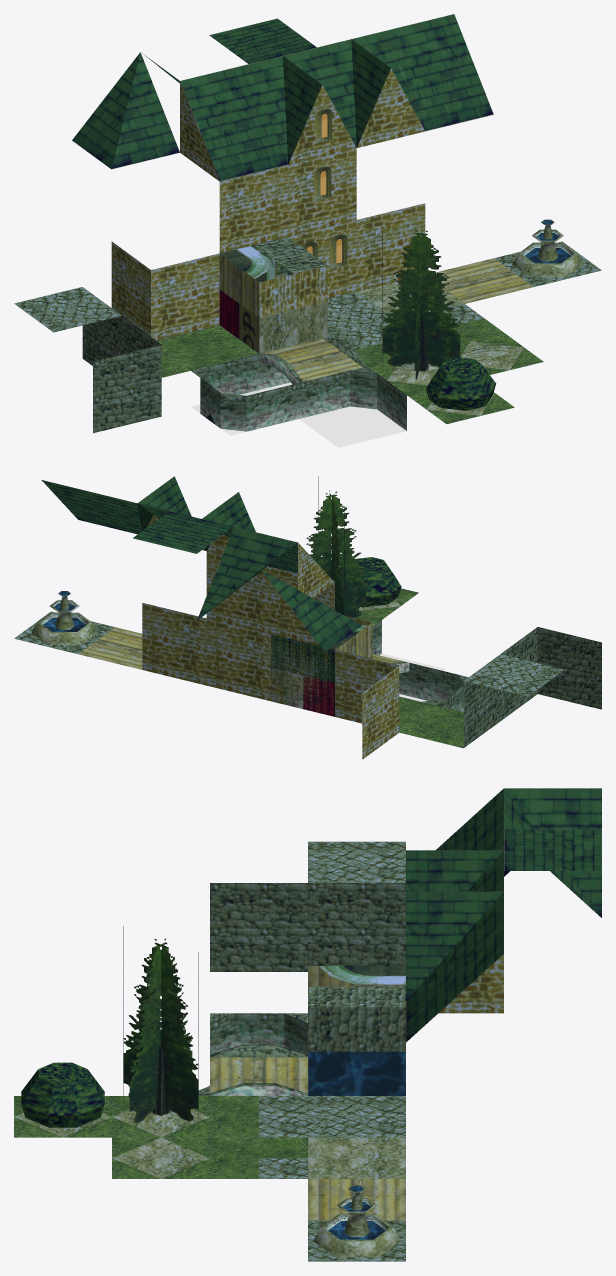
The model's file is TownTiles_002.fbx.
3 views of the same model, one above another, from view 1: azimuth 30°, elevation 25°; view 2: azimuth 150°, elevation 25°; view 3: azimuth 270°, elevation 25° (orthographic). The views are drawn at different scales.
Visible parts, largest first — view 1: Cube, building_Wall.006, Town_Dirts.002, building_Wall.008, building_Wall.009, building_Wall.007, building_Wall.005, Town_River.003, Building_Roof.007, Town_Wall.001, Town_River.001, building_Wall.001 (+17 smaller); view 2: Town_Wall.001, Cube, building_Wall.008, building_Wall.002, building_Wall.003, Town_Dirts.002, Building_Roof.005, building_Wall, Town_Road.001, building_Wall.004, Building_Roof.007, Town_Road.002 (+13 smaller); view 3: Cube, Town_Dirts.002, Town_Wall.001, Town_Wall, building_Wall.007, Town_Dirts.004, Building_Roof.005, Town_Road.001, Cube.001, building_Wall.009, building_Wall.005, Town_Road (+10 smaller).
Part boxes in pixels (box(x1,y1,x2,y2)): Cube: box(219, 237, 327, 353); building_Wall.006: box(180, 64, 287, 181); Town_Dirts.002: box(368, 226, 460, 395); building_Wall.008: box(111, 241, 219, 340); building_Wall.009: box(386, 14, 493, 131); building_Wall.007: box(317, 31, 425, 147); building_Wall.005: box(249, 47, 356, 164); Town_River.003: box(298, 366, 406, 447); Building_Roof.007: box(72, 52, 179, 169); Town_Wall.001: box(93, 316, 161, 433); Town_River.001: box(191, 354, 298, 435); building_Wall.001: box(219, 165, 288, 253); Town_Wall.001: box(500, 627, 601, 720); Cube: box(271, 616, 372, 716); building_Wall.008: box(335, 650, 399, 759); building_Wall.002: box(206, 618, 270, 701); building_Wall.003: box(142, 603, 206, 685); Town_Dirts.002: box(306, 476, 381, 626); Building_Roof.005: box(197, 527, 297, 620); building_Wall: box(271, 634, 334, 716); Town_Road.001: box(14, 591, 114, 653); building_Wall.004: box(206, 551, 270, 633); Building_Roof.007: box(261, 570, 361, 652); Town_Road.002: box(133, 511, 233, 553); Cube: box(308, 966, 405, 1095); Town_Dirts.002: box(112, 926, 209, 1137); Town_Wall.001: box(210, 883, 307, 971); Town_Wall: box(308, 883, 405, 965); building_Wall.007: box(406, 871, 503, 1000); Town_Dirts.004: box(14, 1062, 111, 1137); Building_Roof.005: box(504, 788, 601, 917); Town_Road.001: box(308, 1185, 405, 1261); Cube.001: box(210, 1044, 307, 1095); building_Wall.009: box(406, 913, 503, 1042); building_Wall.005: box(406, 830, 503, 891); Town_Road: box(308, 1096, 405, 1137).
Size of the model in its own units: 1600 by 700 by 1200.
Materials: 2 (1 with a texture image).
